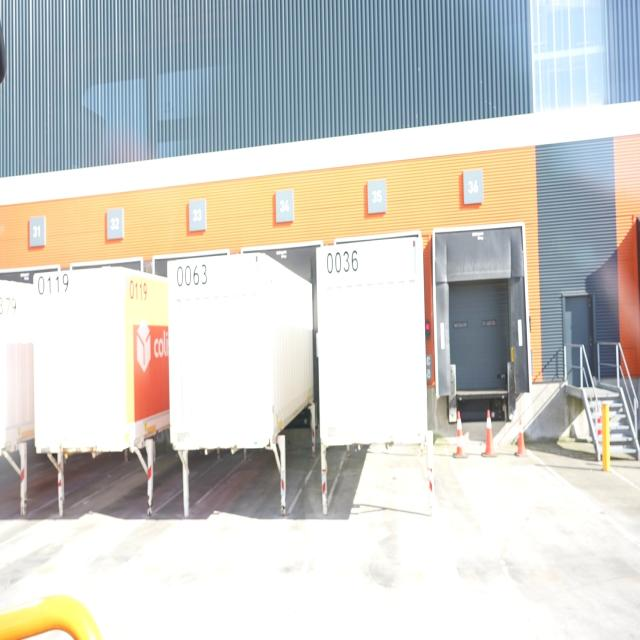Code: (324, 245, 360, 278), (173, 259, 209, 291), (35, 270, 72, 297)
